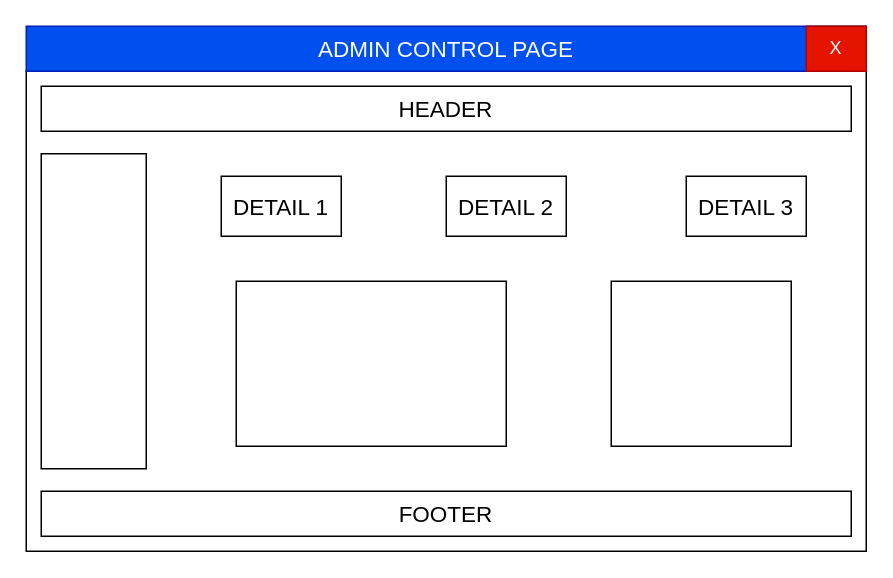
Image size: 893x578. Some labels were removed from this diagram. Here are the shapes that lost their labels. From the top down, the centre of each, then its label:
At [93,310]: "MENU LEFT".
At [370,363]: "STATUS PANEL".
At [700,363]: "CHART".
